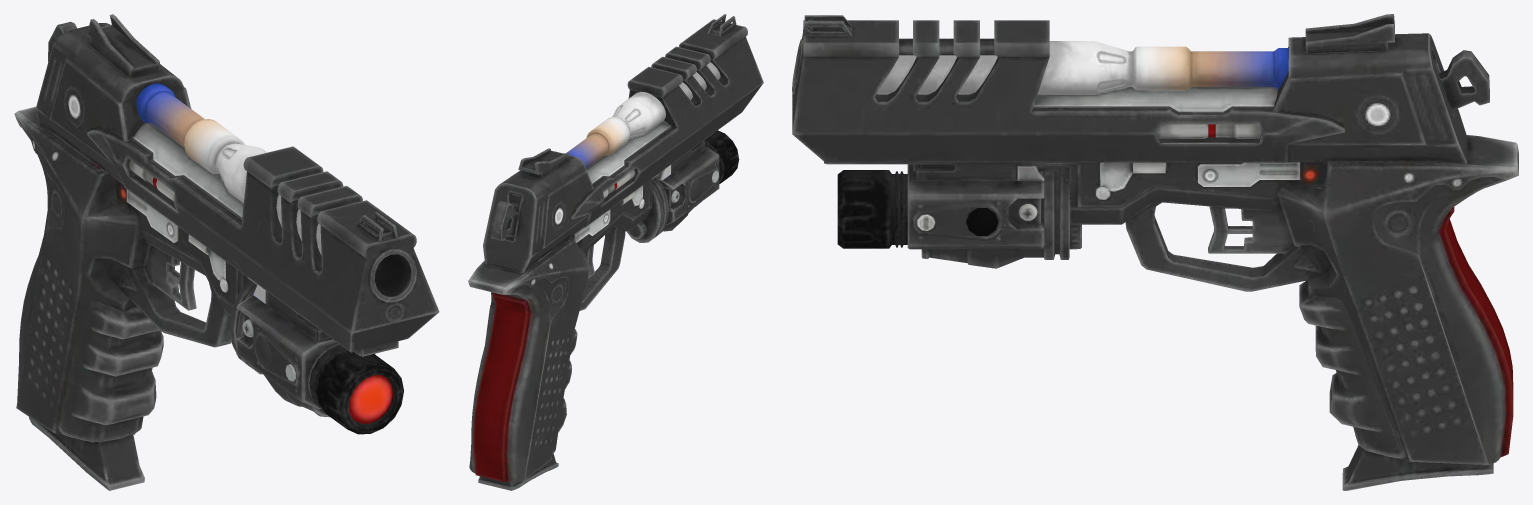
The model's file is sidearm.glb.
The picture shows the model from 3 angles, left to right: view 1: azimuth 30°, elevation 25°; view 2: azimuth 150°, elevation 25°; view 3: azimuth 270°, elevation 25°; orthographic projection. The views are drawn at different scales.
Parts seen in each view (by area): view 1: defaultMaterial; view 2: defaultMaterial; view 3: defaultMaterial.
Boxes of the visible parts, x1,y1,x2,y2 form: defaultMaterial: (14,14,439,490); defaultMaterial: (468,14,763,490); defaultMaterial: (792,14,1518,490).
Bounding box in the file's own units: 0.3534 × 1.41 × 2.
Materials: 1 (1 with a texture image).
